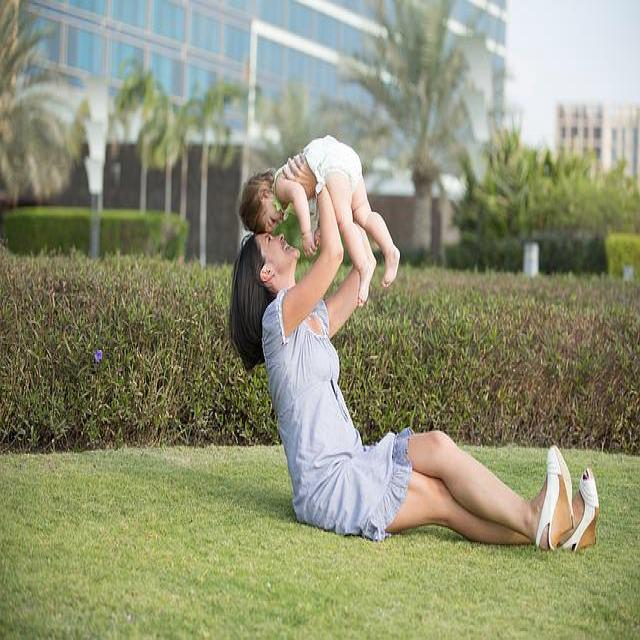adult: (228, 154, 599, 555)
child: (237, 132, 400, 310)
